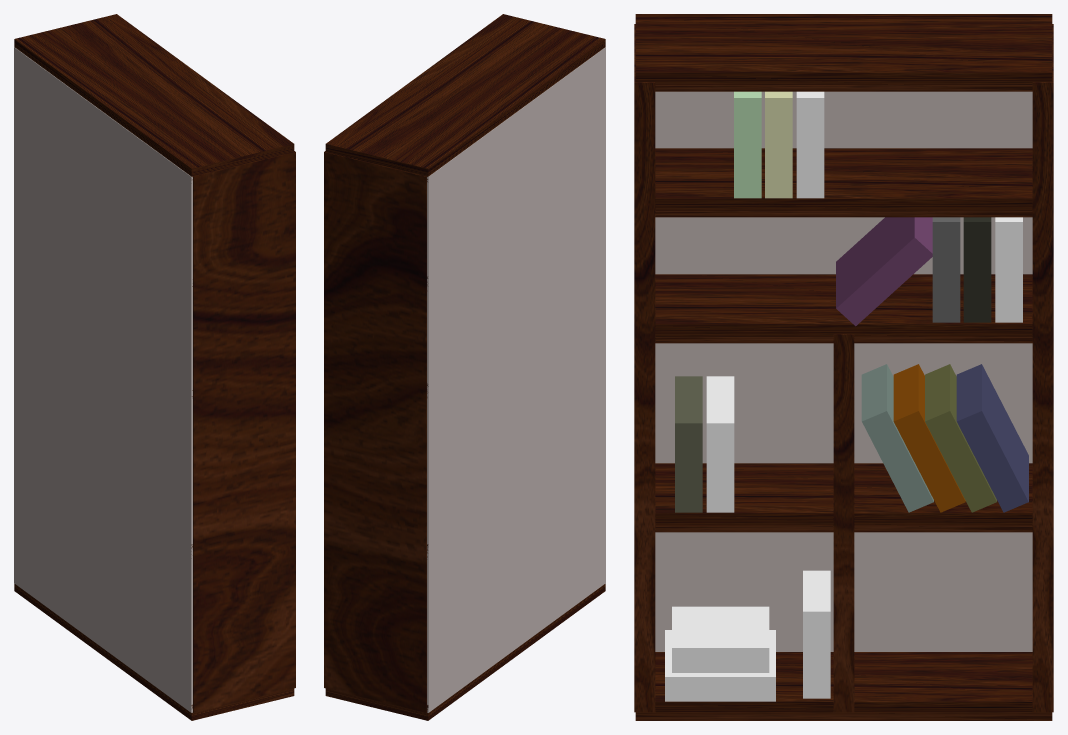
The model's file is bookshelf.gltf.
The picture shows the model from 3 angles, left to right: view 1: azimuth 30°, elevation 25°; view 2: azimuth 150°, elevation 25°; view 3: azimuth 270°, elevation 25°; orthographic projection. The views are drawn at different scales.
Visible parts, largest first — view 1: Cube, Cube.002, Cube.004, Cube.003; view 2: Cube, Cube.001, Cube.004, Cube.003; view 3: Cube, Cube.004, Cube.005, Cube.006, Cube.003, Cube.008, Cube.001, Cube.002, Cube.007, Cube.015, Cube.023, Cube.018 (+13 smaller).
Boxes of the visible parts, x1,y1,x2,y2 form: Cube: (14, 47, 192, 712); Cube.002: (193, 151, 295, 712); Cube.004: (14, 14, 294, 179); Cube.003: (14, 583, 294, 720); Cube: (427, 47, 605, 712); Cube.001: (324, 151, 426, 712); Cube.004: (325, 14, 605, 181); Cube.003: (325, 583, 605, 720); Cube: (655, 91, 1032, 651); Cube.004: (635, 14, 1052, 91); Cube.005: (655, 148, 1032, 217); Cube.006: (655, 274, 1032, 343); Cube.003: (635, 652, 1052, 720); Cube.008: (655, 463, 1032, 532); Cube.001: (1032, 24, 1053, 712); Cube.002: (634, 24, 655, 712); Cube.007: (833, 334, 854, 712); Cube.015: (836, 217, 932, 326); Cube.023: (672, 606, 769, 672); Cube.018: (956, 364, 1028, 512).
Bounding box in the file's own units: 2.05 × 10.3 × 6.03.
18 materials, 1 textured.
